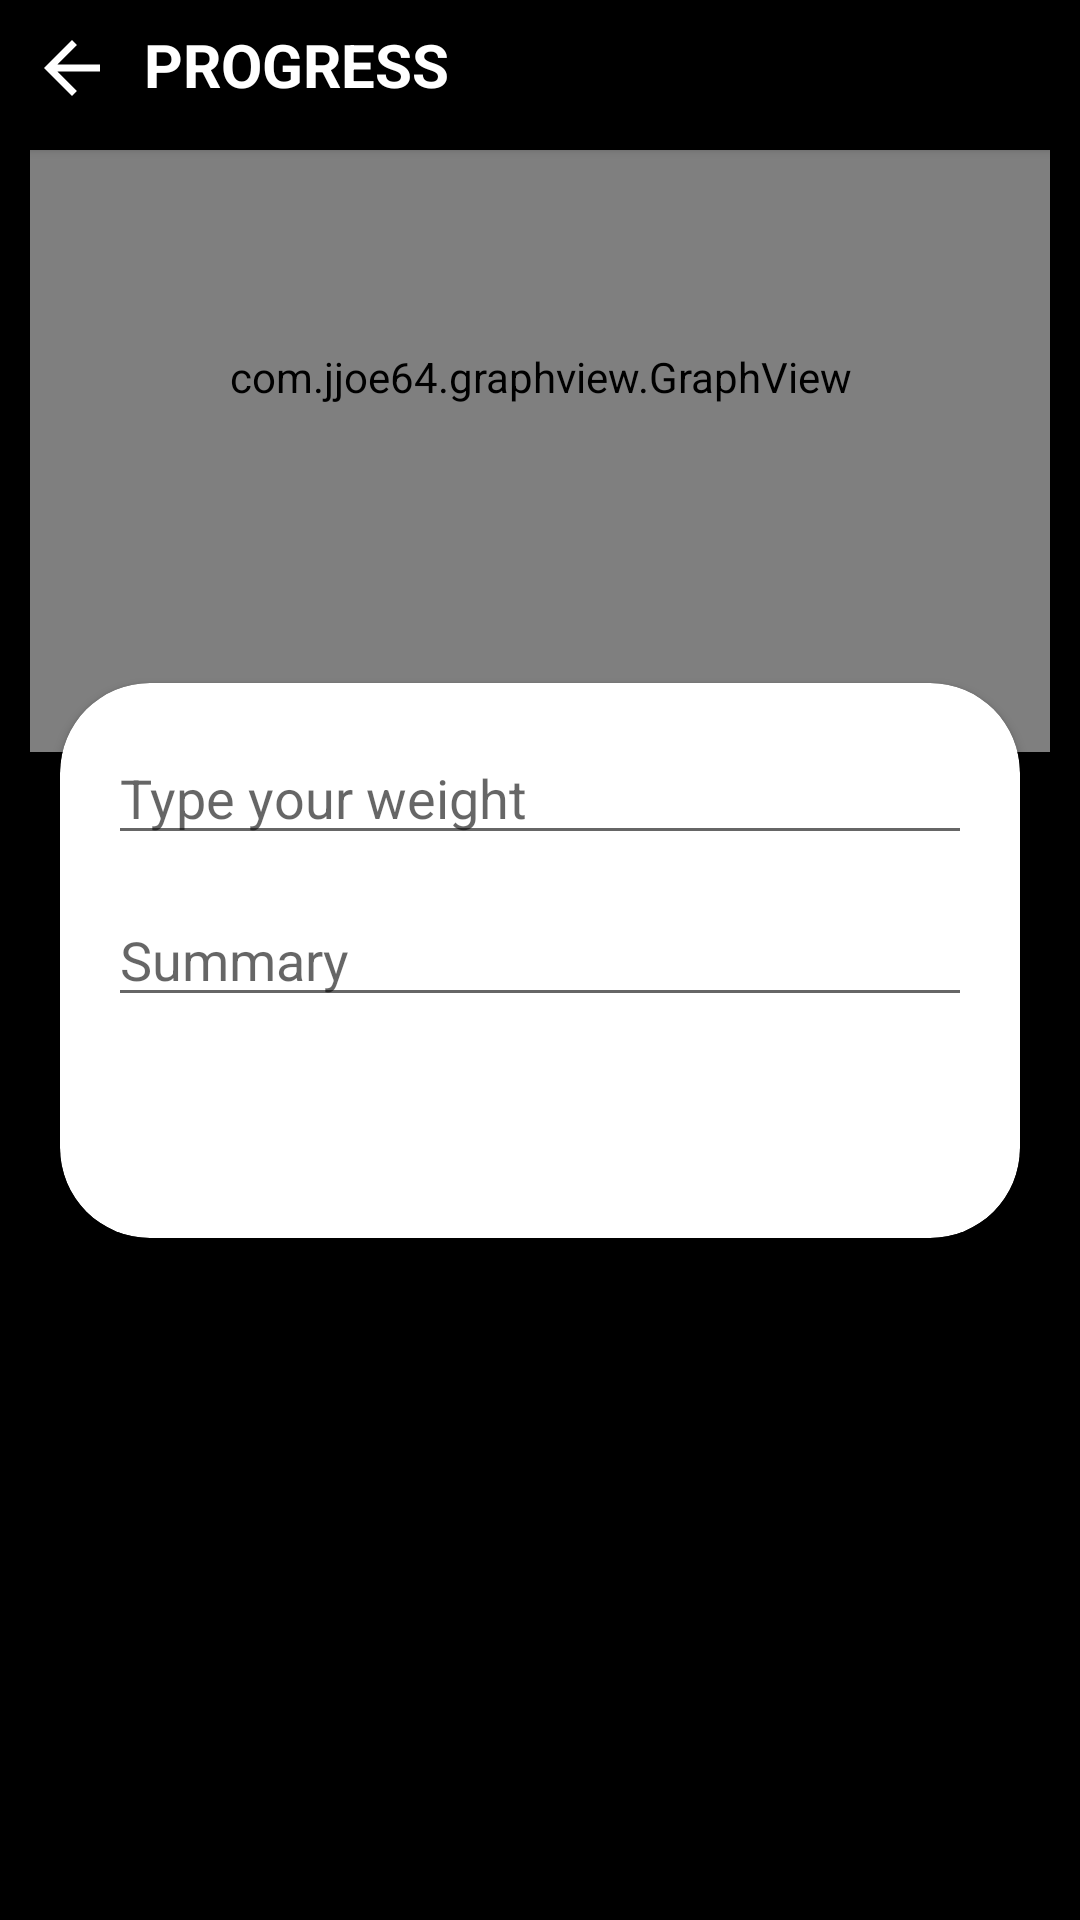

Icons on this 1080 × 1920 Android screen, each with its box as detection(x1, y1, x2, y2):
arrow: detection(44, 40, 100, 96)
